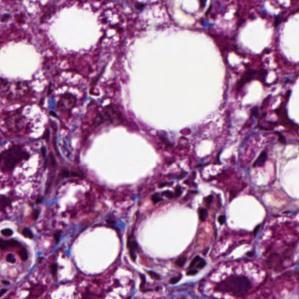inflammation: (147, 158, 223, 210), (134, 253, 215, 294), (0, 220, 42, 270)
